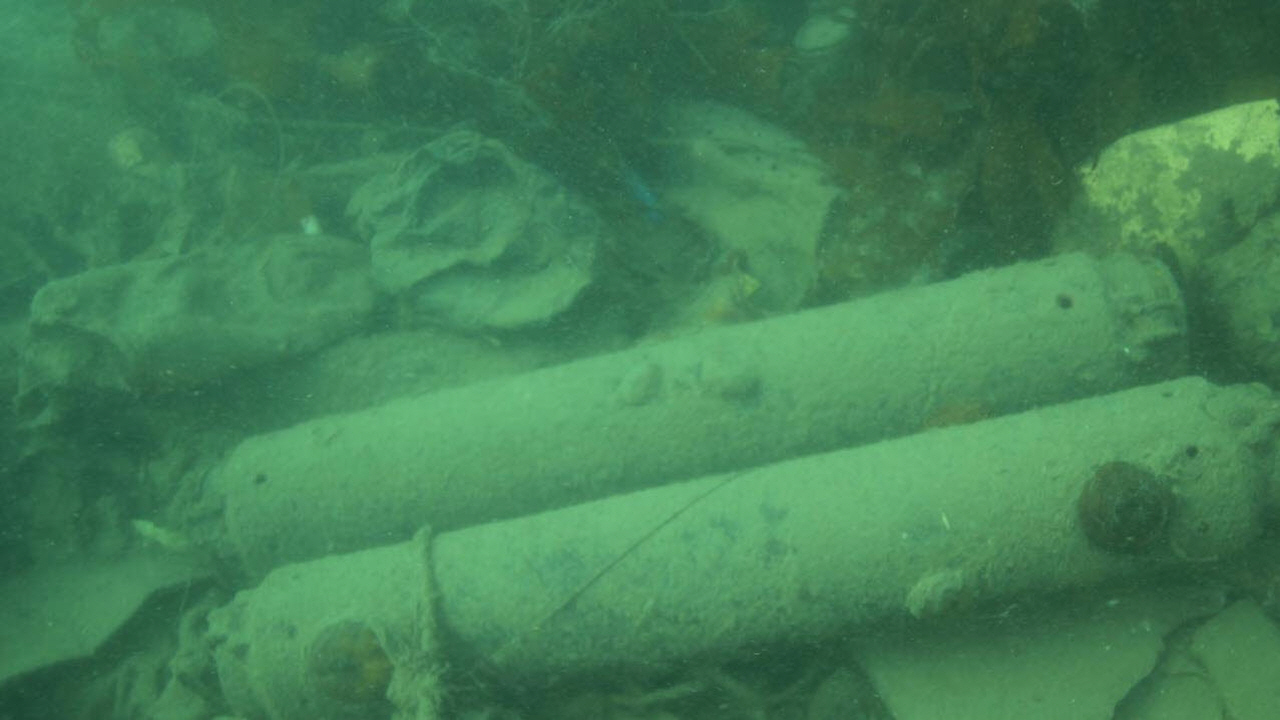bundle of ropes: (369, 521, 508, 720)
eel fish trap: (200, 375, 1280, 720), (188, 252, 1188, 588)
